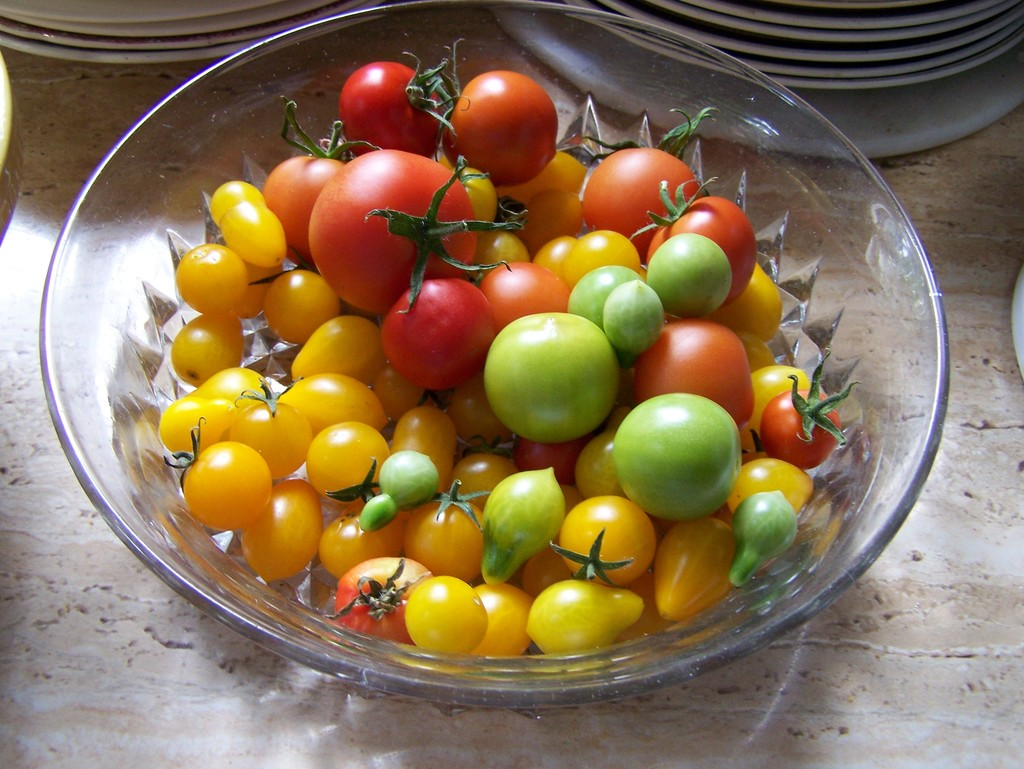Tomato: (152, 35, 856, 654), (579, 135, 689, 220)
